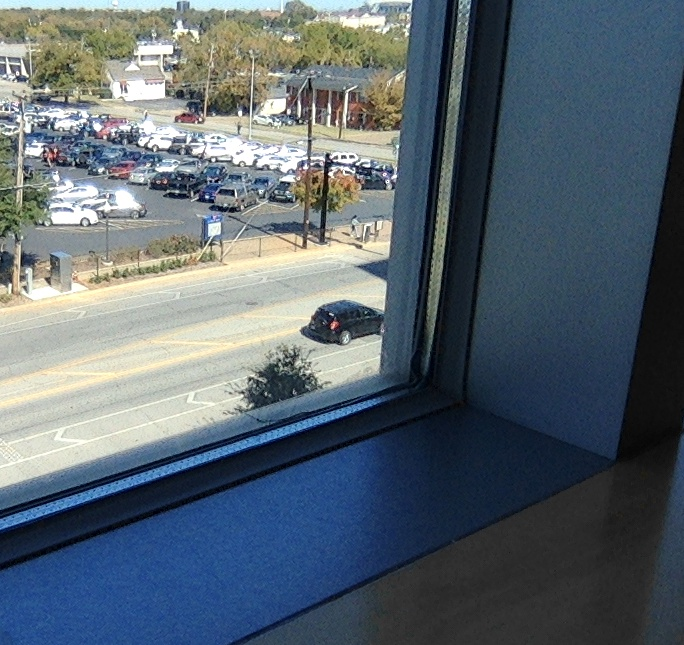car: (300, 300, 384, 345)
